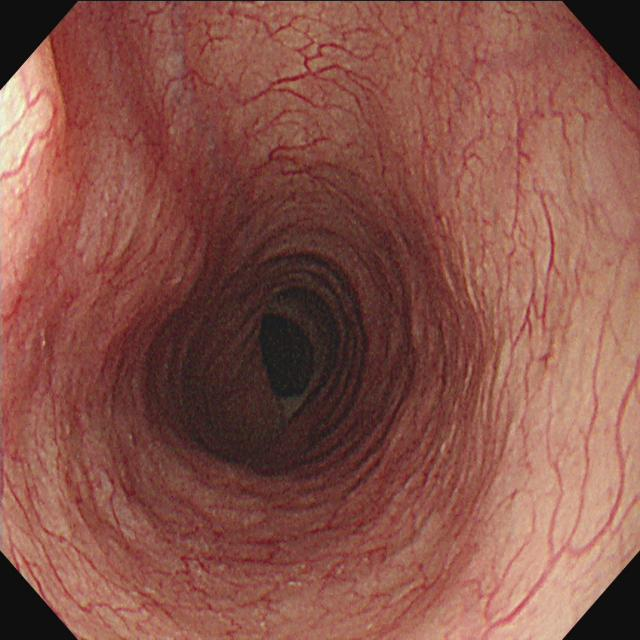E: (263, 316, 316, 396)
